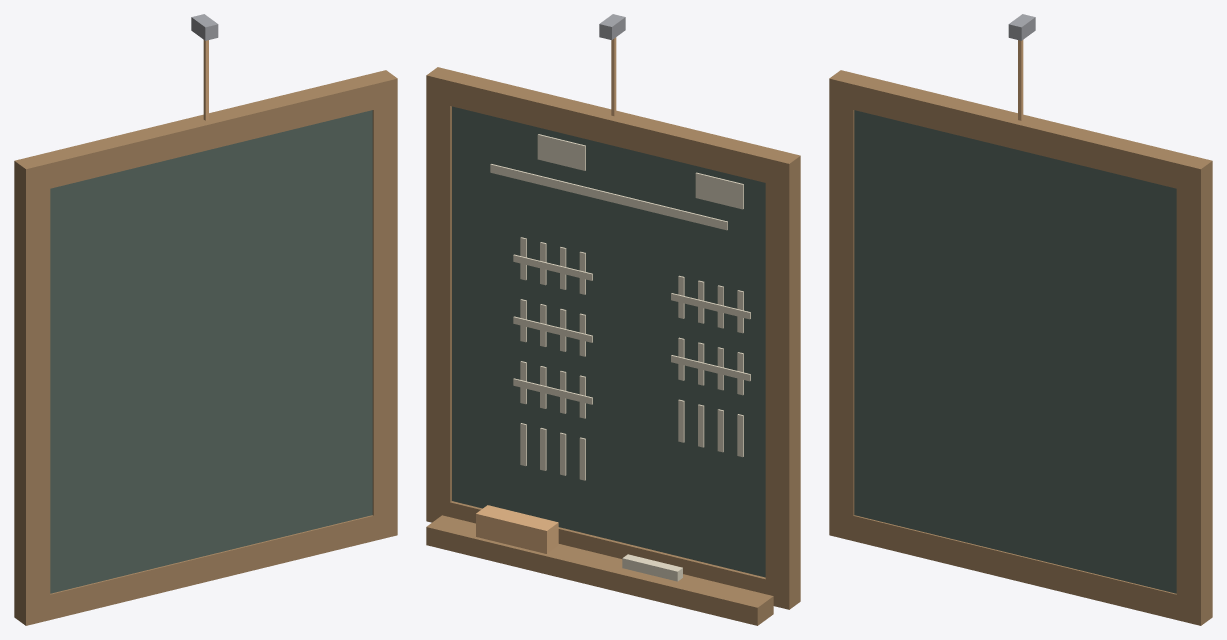
File: chalkboard.glb
3 renders of one model, left to right at view 1: azimuth 30°, elevation 25°; view 2: azimuth 150°, elevation 25°; view 3: azimuth 330°, elevation 25°, orthographic. The views are drawn at different scales.
Visible parts, largest first — view 1: Chalkboard; view 2: Chalkboard; view 3: Chalkboard.
Boxes of the visible parts, x1=… form: Chalkboard: x1=14, y1=14, x2=397, y2=625; Chalkboard: x1=426, y1=14, x2=800, y2=625; Chalkboard: x1=829, y1=14, x2=1212, y2=625.
Bounding box in the file's own units: 0.46 × 0.666 × 0.06.
